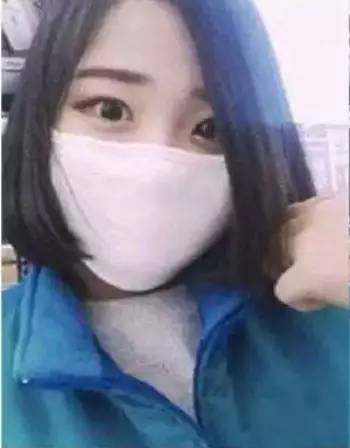face_mask: (50, 1, 232, 291)
